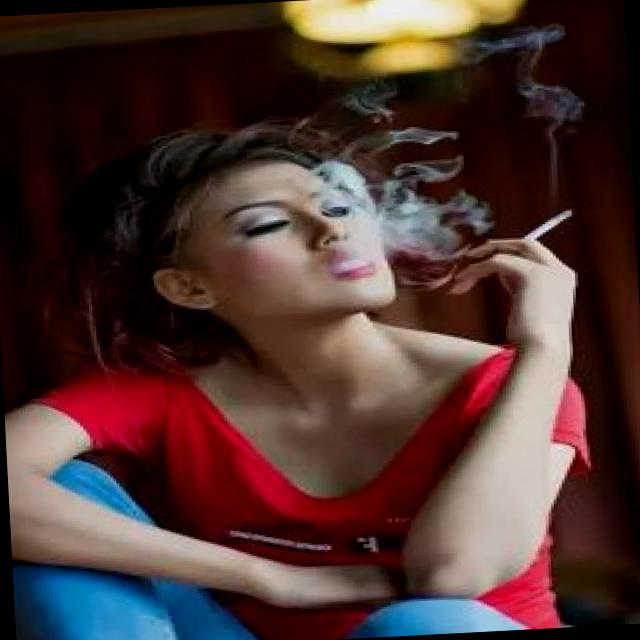smoke: (508, 204, 586, 248)
